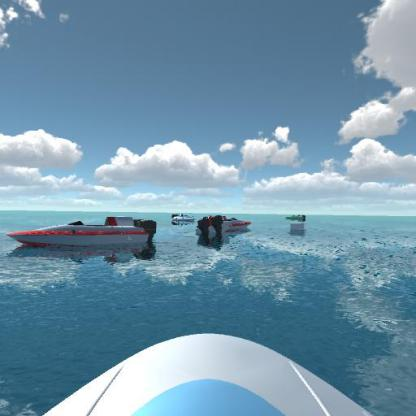usv0: (282, 210, 308, 225)
usv1: (169, 210, 197, 228)
usv3: (2, 209, 161, 263), (196, 215, 234, 241), (214, 211, 256, 232)
